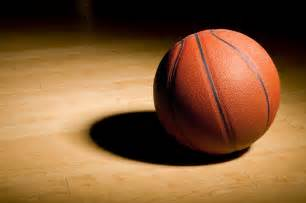basketball: (150, 28, 283, 155)
